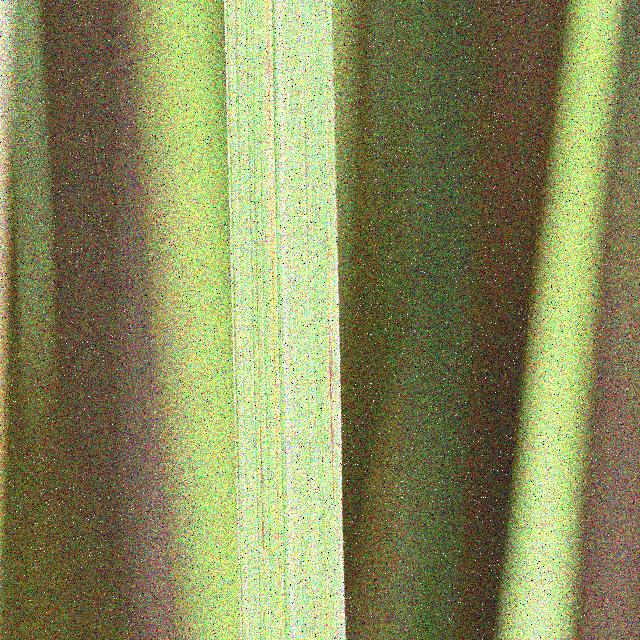BLS: (266, 2, 283, 640), (324, 2, 339, 640), (255, 217, 267, 640), (324, 570, 329, 640)
